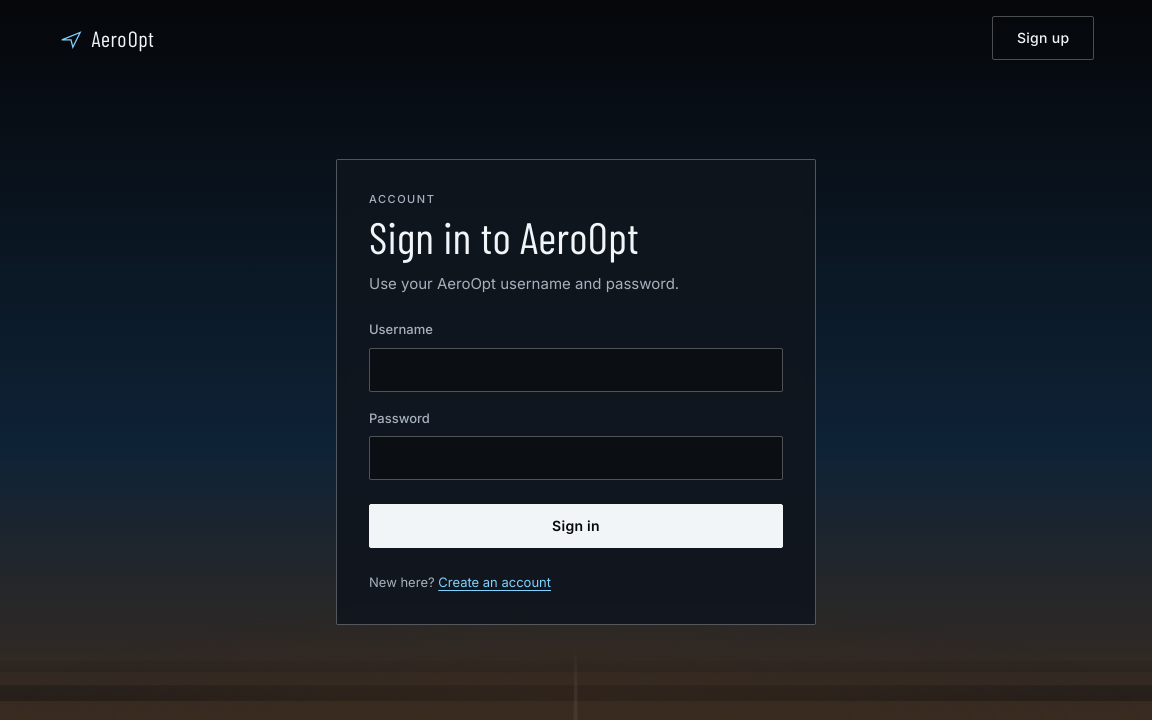
Test: /login › shows a clear error for wrong credentials
In the field labelled "Username": (576, 370) [369,348,783,392], type "admin"
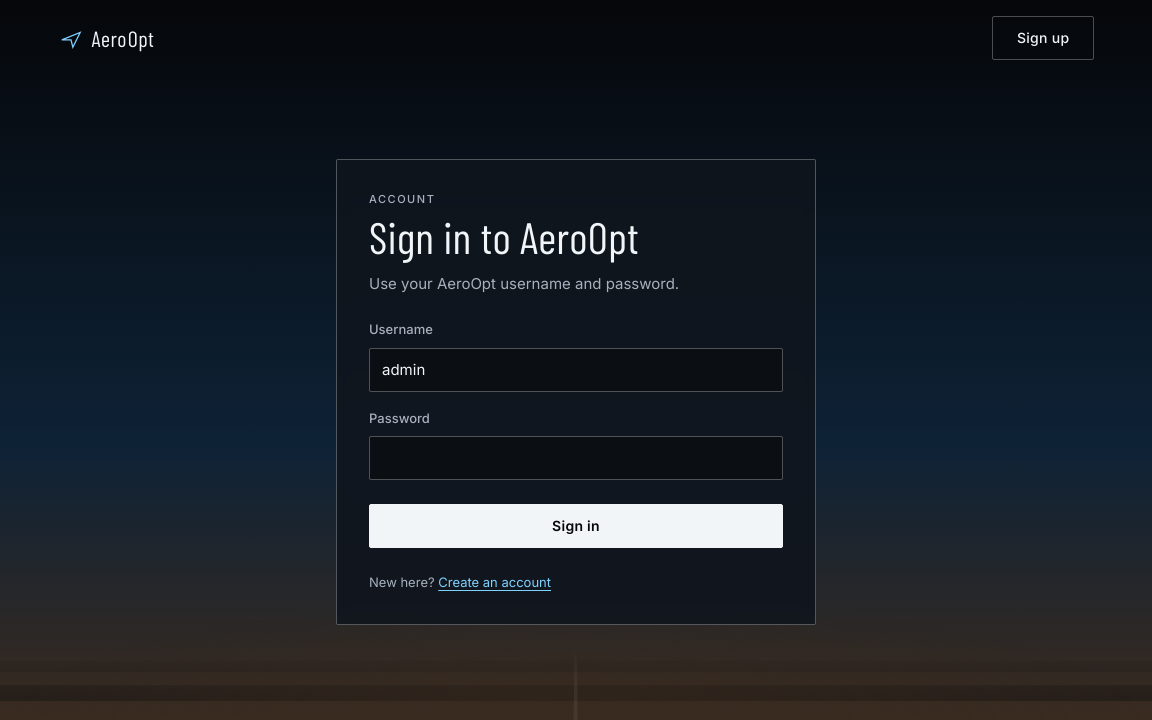
In the password field labelled "Password": (576, 458) [369,436,783,480], type "nope"
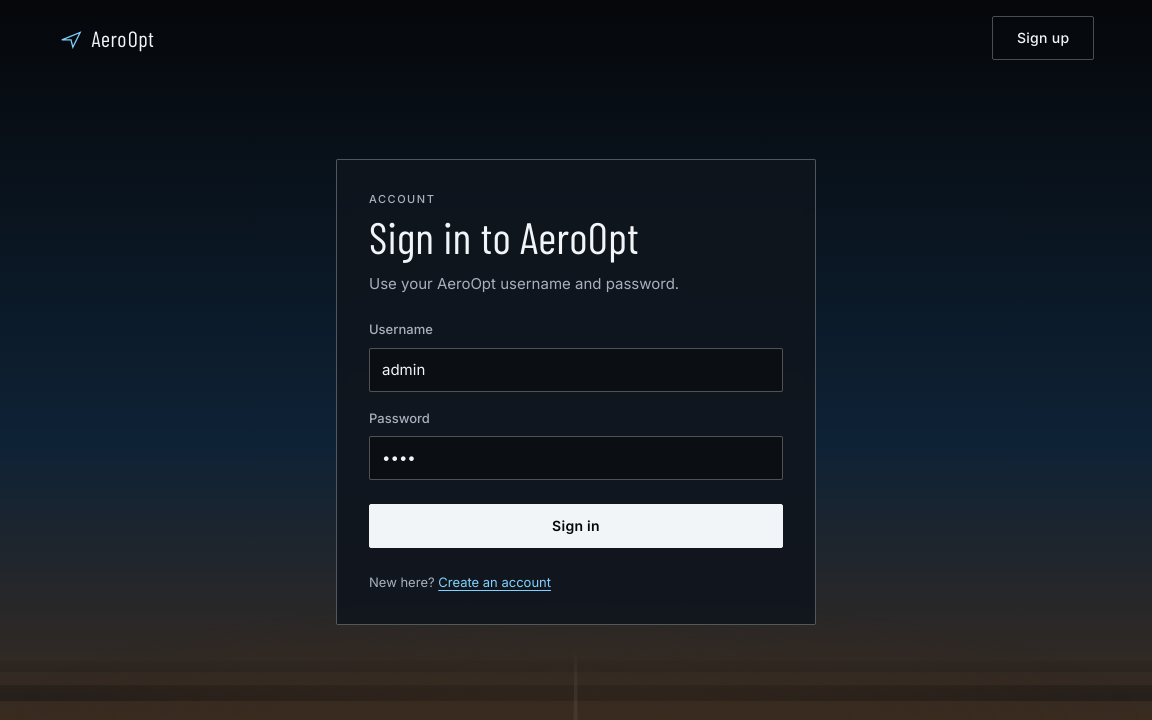
Click the button "Sign in": (576, 526) [369,504,783,548]
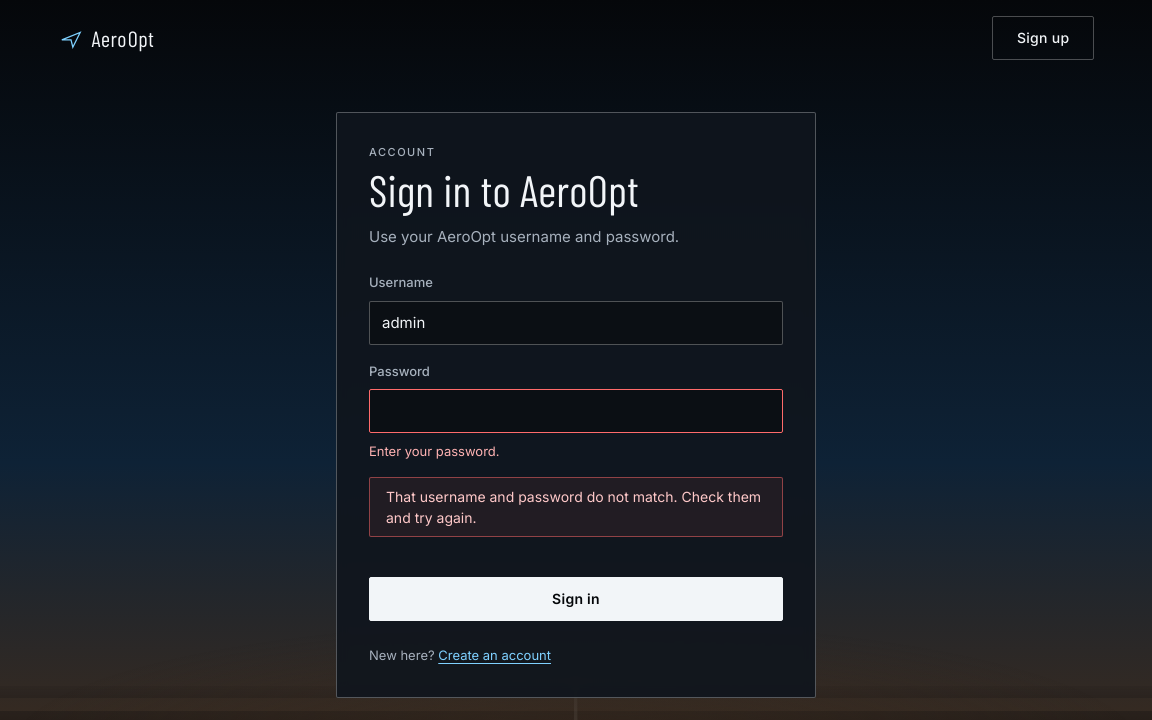
Expected: the message shows "do not match", [386,488,761,526]
